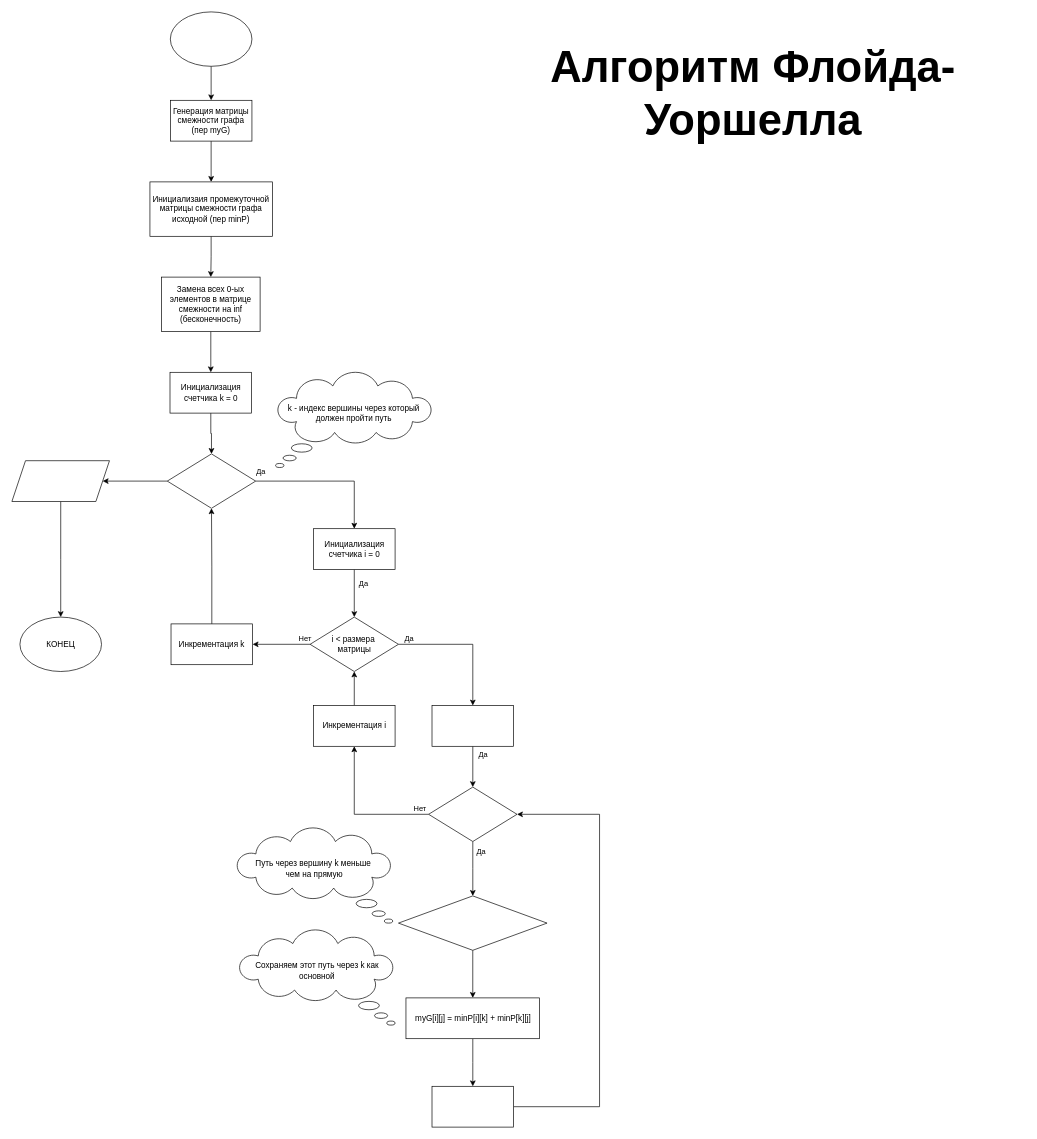
Some shapes in this 1037 by 1139 pixel diagram are drawn without their labels. The shapes that lost their labels are listed below. From the top down, each one's centre as x and y in pixels, then its label:
At (211,38): "СТАРТ".
At (60,481): "Вывод матрицы myG".
At (211,480): "k < размера матрицы".
At (472,725): "Инициализация счетчика j = 0".
At (472,814): "j < размера матрицы".
At (472,922): "minP[i][k] + minP[k][j] < minP[i][j]".
At (472,1106): "Инкрементация j".
